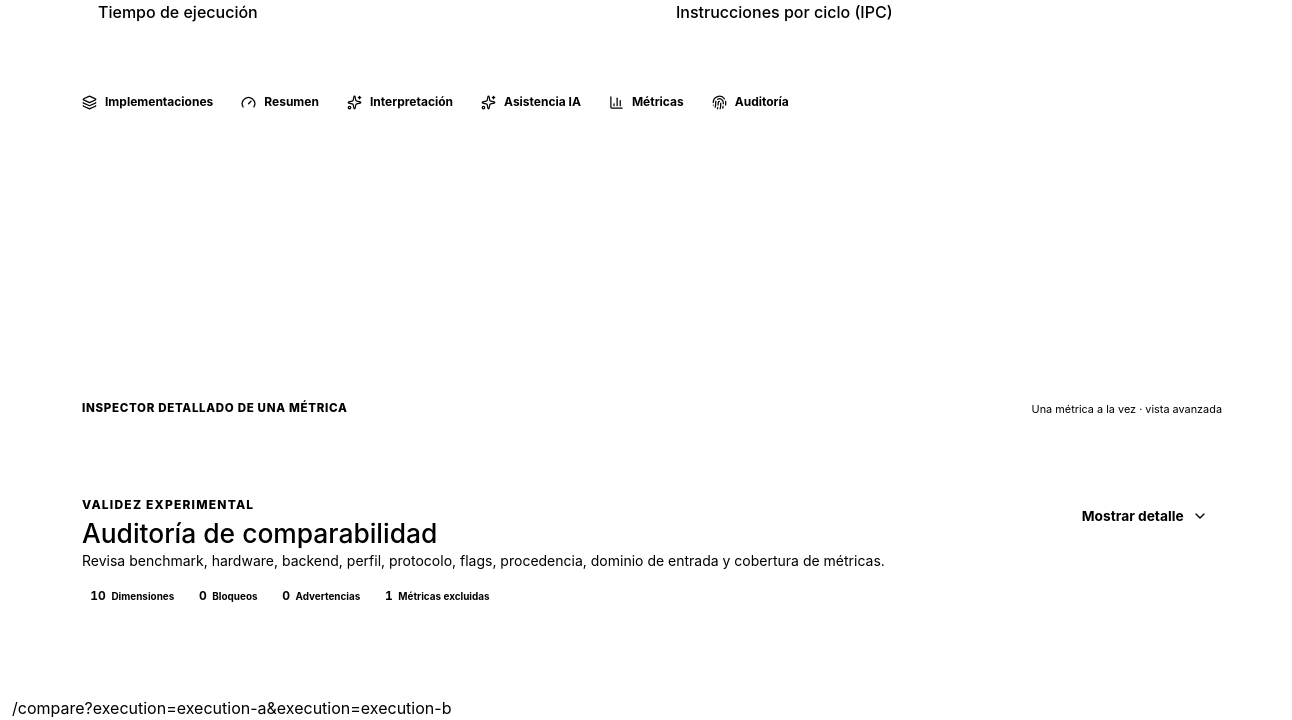
Test case: ComparisonPage › renders the compatibility audit dimensions with defensive labels
(page scrolled)
Click the button "Mostrar detalle".
click(1145, 516)  # box [1067,496,1222,536]
(page scrolled)
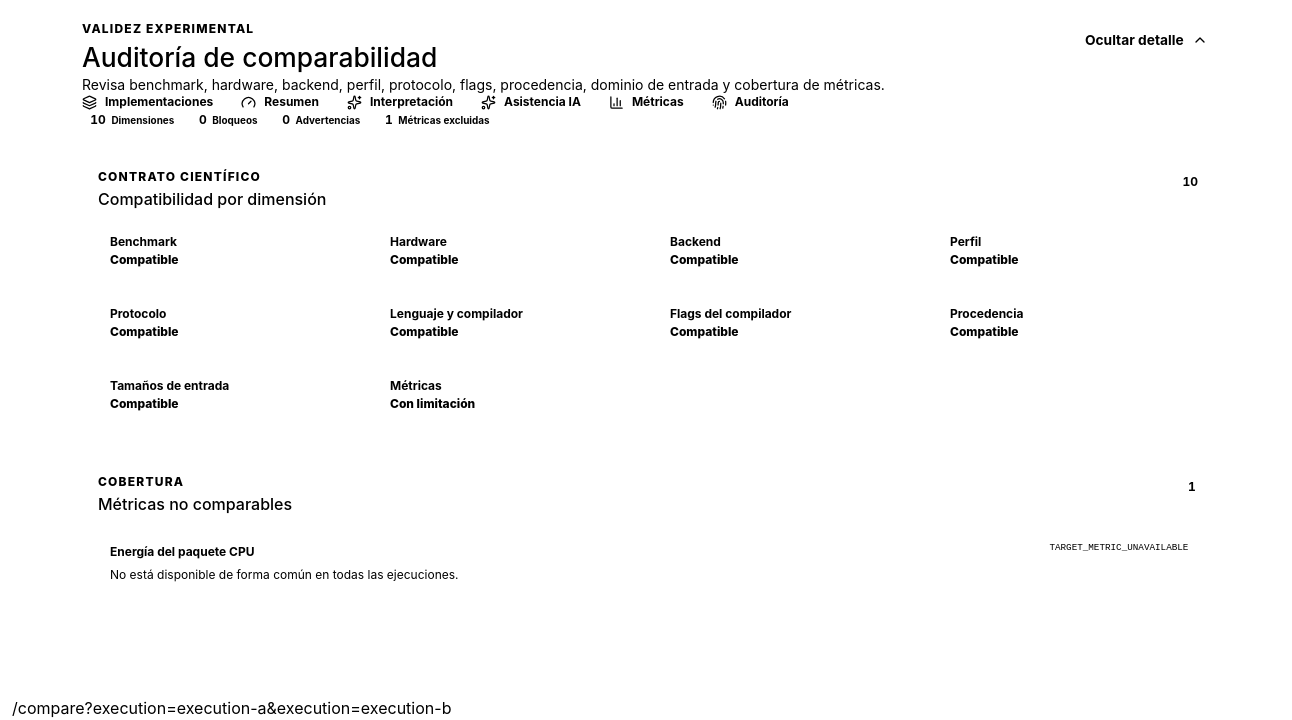
expect the text "Benchmark" is shown: met, box [110,234,177,249]
expect the text "Hardware" is shown: met, box [390,234,447,249]
expect the text "Backend" is shown: met, box [670,234,721,249]
